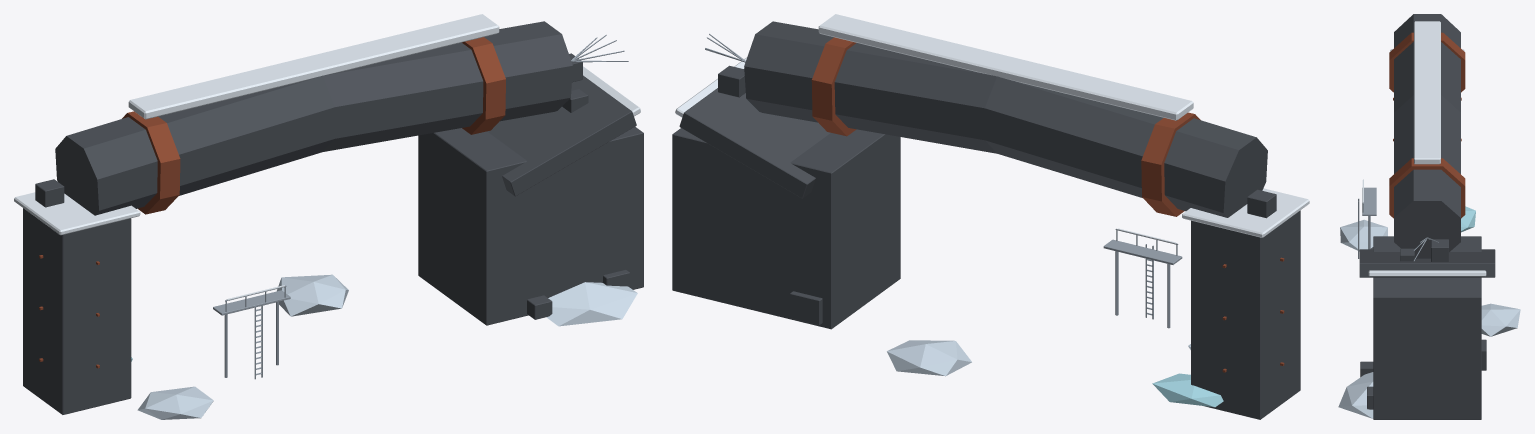
Rendered from Heritage_Span.fbx.
3 renders of one model, left to right at view 1: azimuth 30°, elevation 25°; view 2: azimuth 150°, elevation 25°; view 3: azimuth 270°, elevation 25°, orthographic. The views are drawn at different scales.
Parts seen in each view (by area): view 1: Heritage_Span; view 2: Heritage_Span; view 3: Heritage_Span.
Boxes of the visible parts, <box> form: Heritage_Span: <box>14,14,643,419</box>; Heritage_Span: <box>672,14,1309,419</box>; Heritage_Span: <box>1338,14,1520,419</box>.
Bounding box in the file's own units: 5912 × 2774 × 2017.
